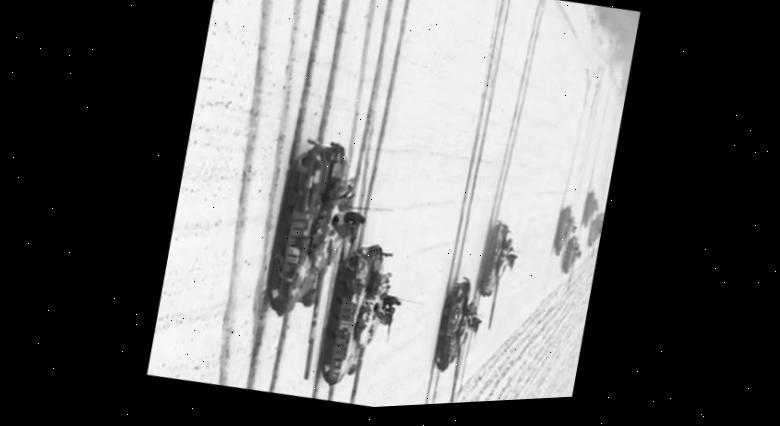tank: (245, 129, 381, 389), (309, 233, 413, 410), (423, 270, 491, 404), (467, 216, 524, 332), (547, 197, 584, 258), (555, 233, 588, 287), (573, 181, 606, 232)
